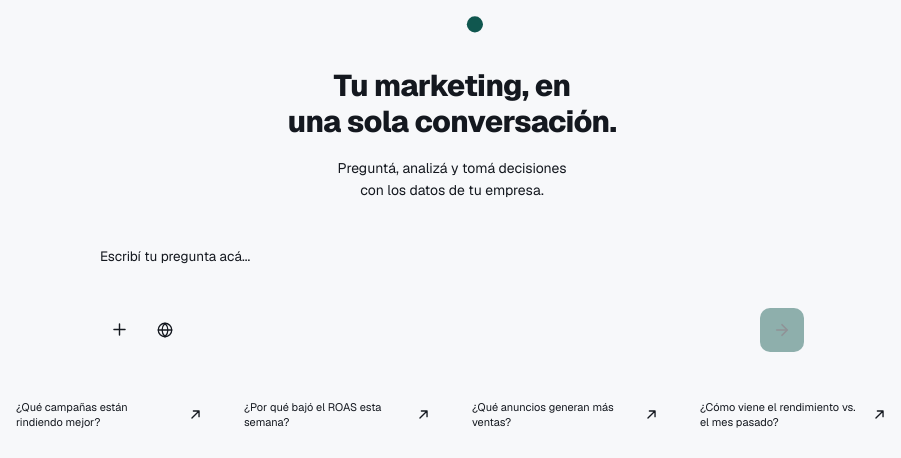
Test case: Chat › una sugerencia se copia al cuadro sin enviarse
This screenshot has width=901, height=458.
Click the button "¿Por qué bajó el ROAS esta semana?". click: (338, 415)
box: [230,388,446,442]
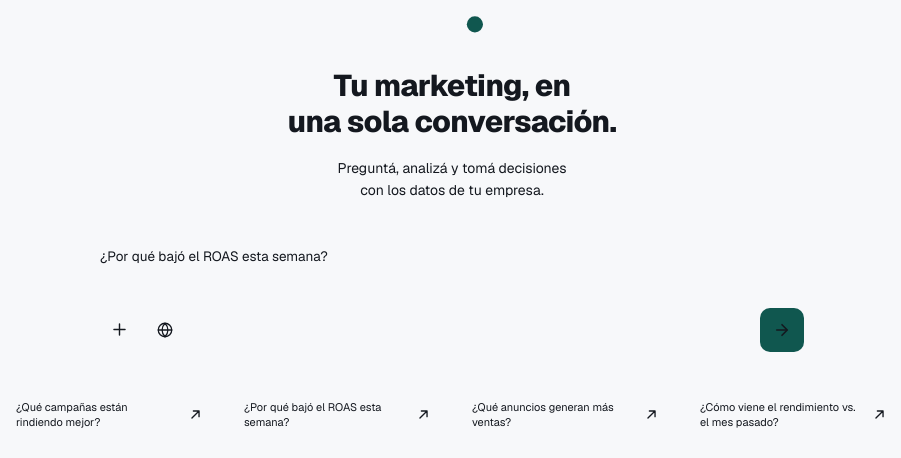
Result: the text box named "tu pregunta" holds "¿Por qué bajó el ROAS esta semana?" at [100,246,804,290]
